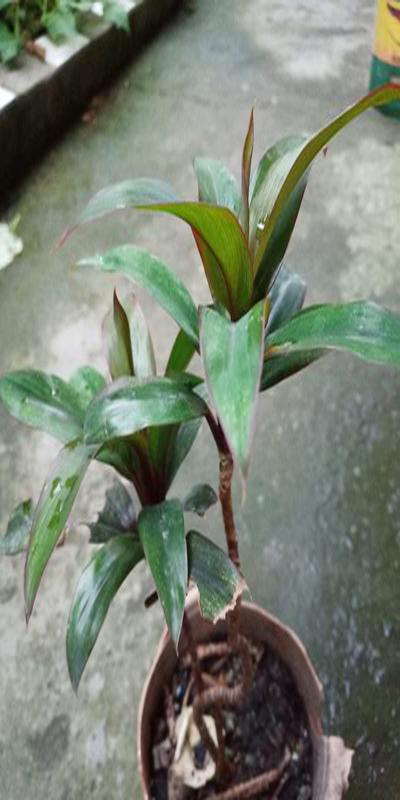Baston de san jose: (42, 118, 342, 754)
